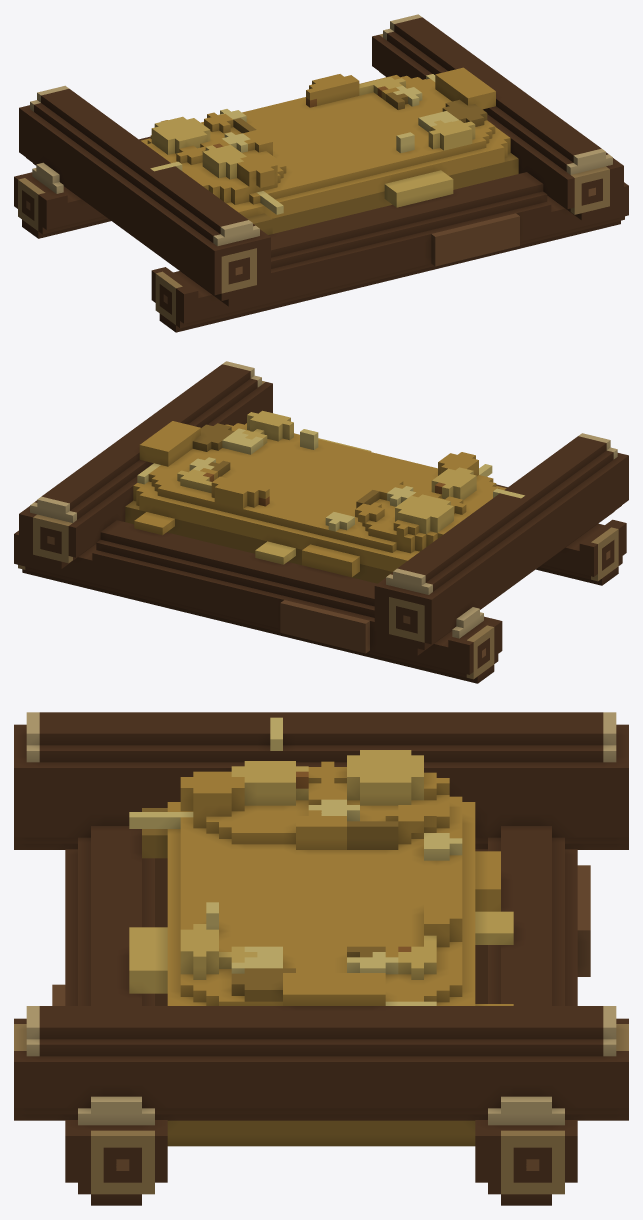
Rendered from log_bed.glb.
3 views of the same model, one above another, from view 1: azimuth 30°, elevation 25°; view 2: azimuth 150°, elevation 25°; view 3: azimuth 270°, elevation 25° (orthographic). The views are drawn at different scales.
Parts seen in each view (by area): view 1: VoxelVisual; view 2: VoxelVisual; view 3: VoxelVisual.
Part boxes in pixels (x1=…): VoxelVisual: x1=14, y1=14, x2=628, y2=332; VoxelVisual: x1=14, y1=361, x2=628, y2=683; VoxelVisual: x1=14, y1=712, x2=628, y2=1205.
Size of what is drawn, in the model's own units: 4 by 0.9375 by 3.
